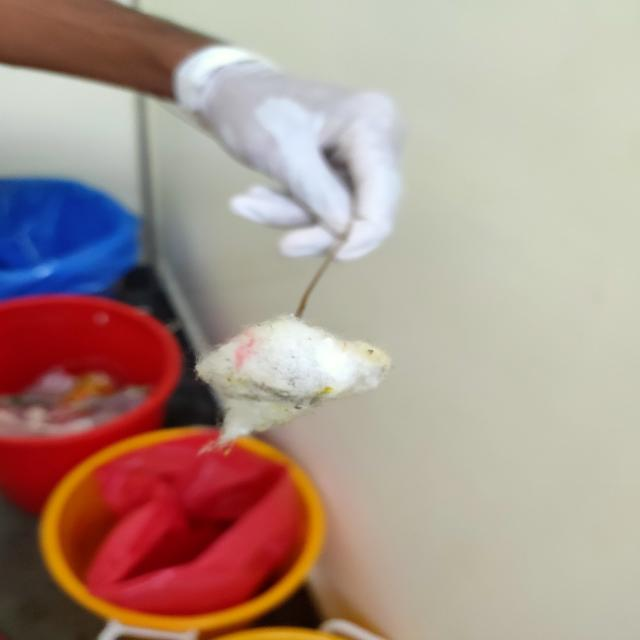B3: (182, 315, 399, 450)
